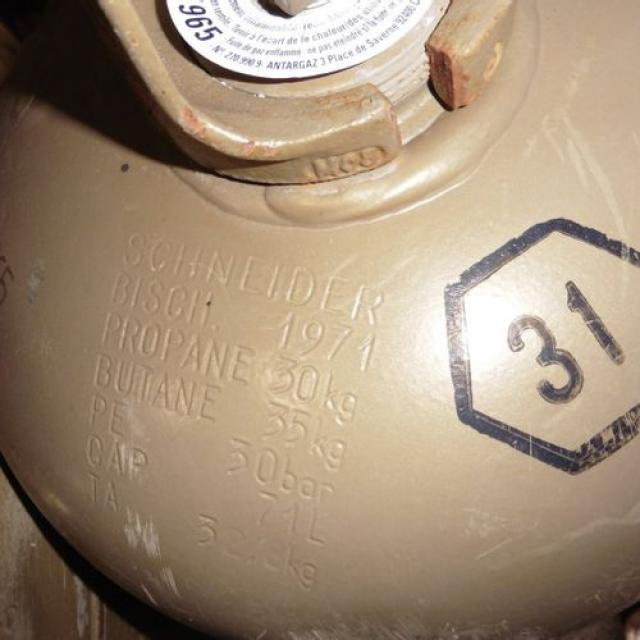ocr: (56, 223, 390, 611)
